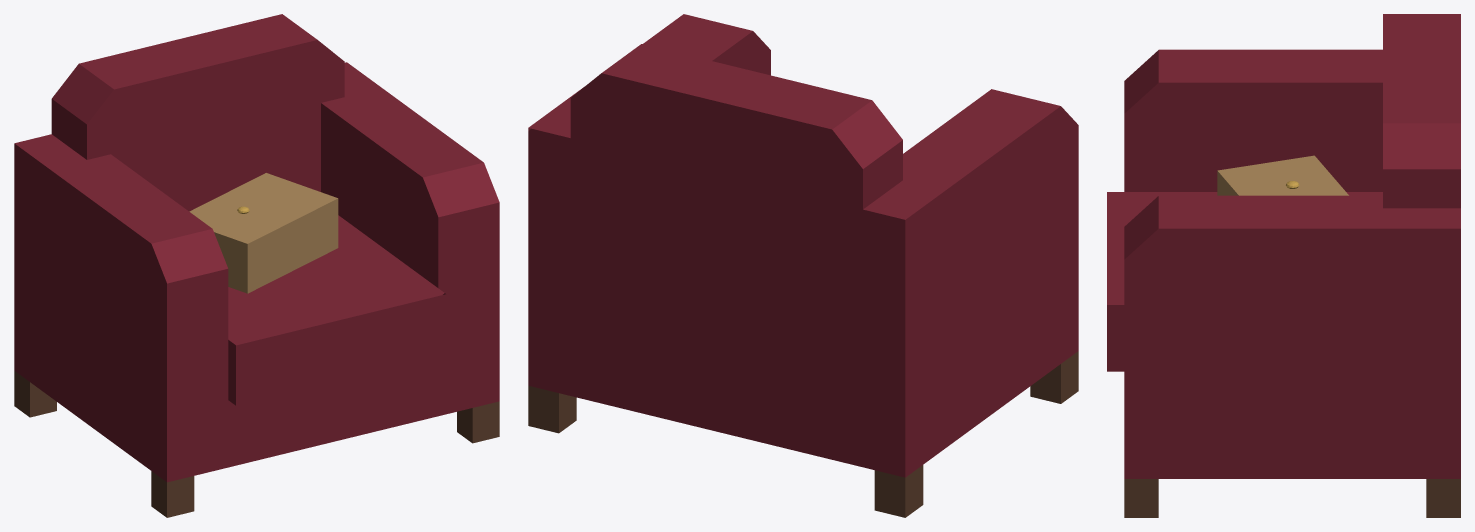
The model's file is loungeChair.glb.
3 renders of one model, left to right at view 1: azimuth 30°, elevation 25°; view 2: azimuth 150°, elevation 25°; view 3: azimuth 270°, elevation 25°, orthographic. The views are drawn at different scales.
Visible parts, largest first — view 1: loungeChair(Clone); view 2: loungeChair(Clone); view 3: loungeChair(Clone).
Boxes of the visible parts, box(x1,y1,x2,y2) form: loungeChair(Clone): box(14, 14, 499, 517); loungeChair(Clone): box(528, 14, 1078, 517); loungeChair(Clone): box(1107, 14, 1460, 517).
Bounding box in the file's own units: 0.49 × 0.46 × 0.41.
